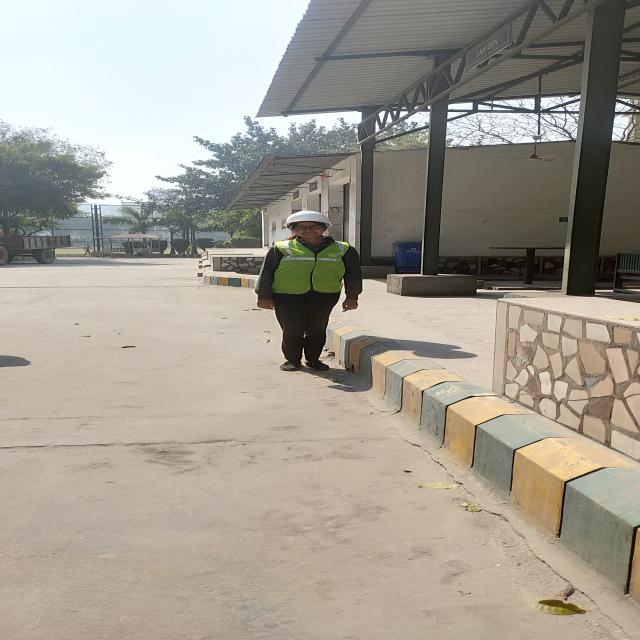safe: (256, 210, 364, 372)
